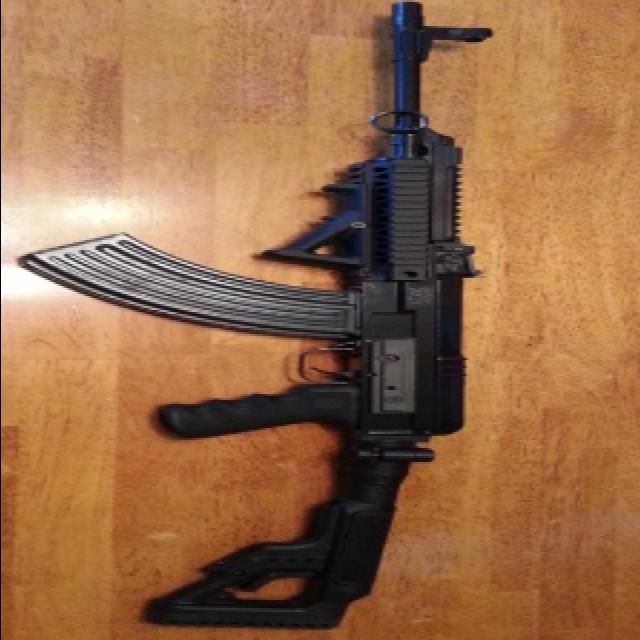rifle: (89, 1, 507, 629)
